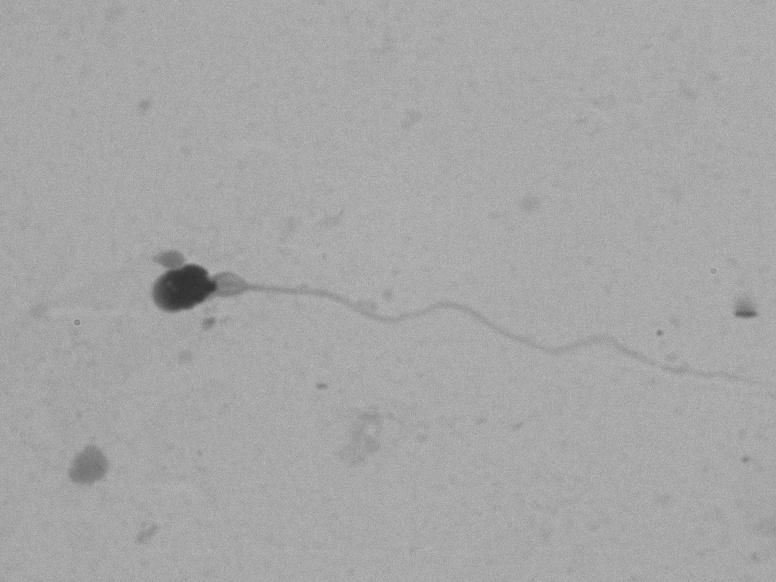Abnormal: (136, 249, 712, 414)
